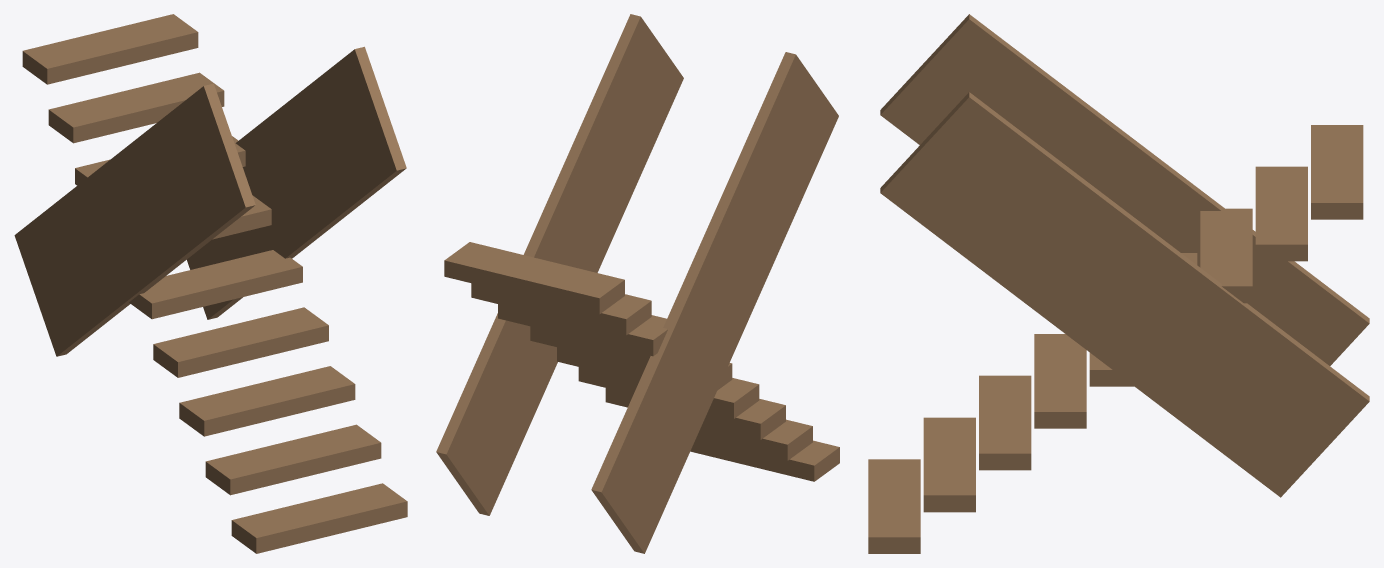
Rendered from BD_stairs.fbx.
3 views of the same model, side by side, from view 1: azimuth 30°, elevation 25°; view 2: azimuth 150°, elevation 25°; view 3: azimuth 270°, elevation 25° (orthographic). The views are drawn at different scales.
Parts seen in each view (by area): view 1: BD_stairs; view 2: BD_stairs; view 3: BD_stairs.
Boxes of the visible parts, box(x1,y1,x2,y2) form: BD_stairs: box(14, 14, 407, 553); BD_stairs: box(436, 14, 839, 553); BD_stairs: box(868, 14, 1369, 553).
Bounding box in the file's own units: 1.28 × 3.3 × 3.26.
